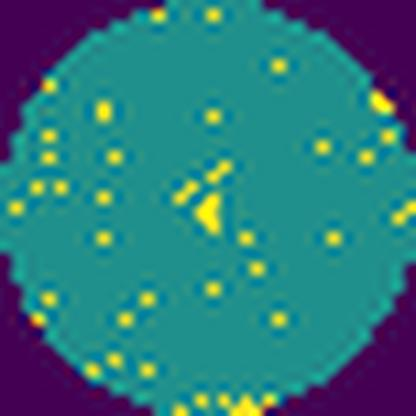Center: (170, 156, 236, 238)
